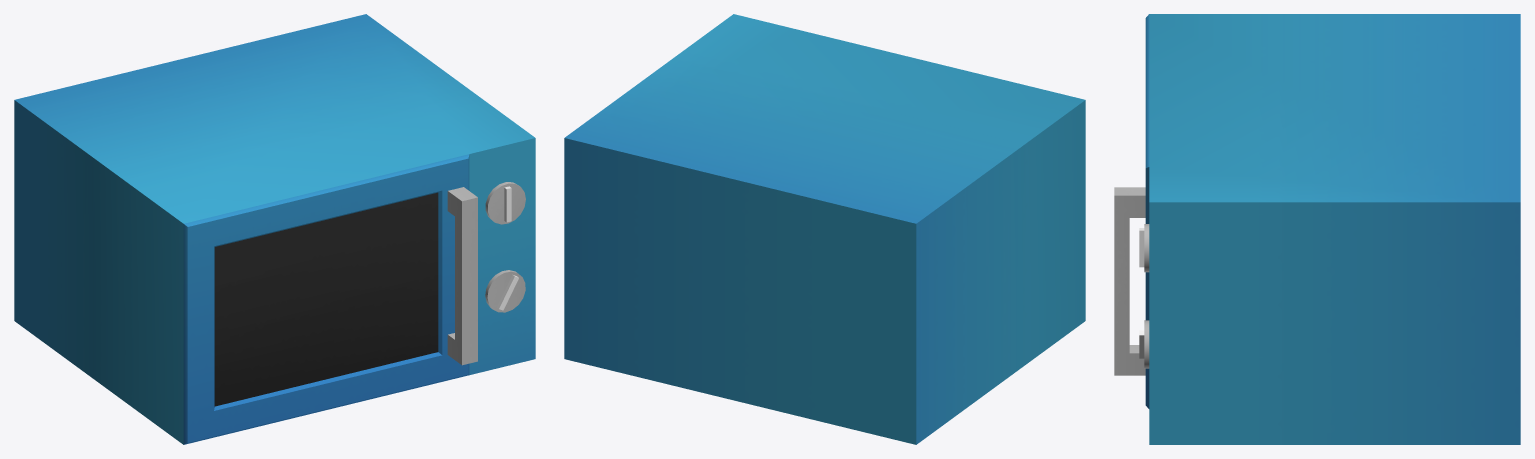
File: Microwave.FBX
The picture shows the model from 3 angles, left to right: view 1: azimuth 30°, elevation 25°; view 2: azimuth 150°, elevation 25°; view 3: azimuth 270°, elevation 25°; orthographic projection. The views are drawn at different scales.
Visible parts, largest first — view 1: Microwave; view 2: Microwave; view 3: Microwave.
Boxes of the visible parts, x1,y1,x2,y2 form: Microwave: (14,14,535,444); Microwave: (564,14,1085,444); Microwave: (1114,14,1520,444).
Bounding box in the file's own units: 60 × 36.02 × 54.71.
1 material, 1 textured.
